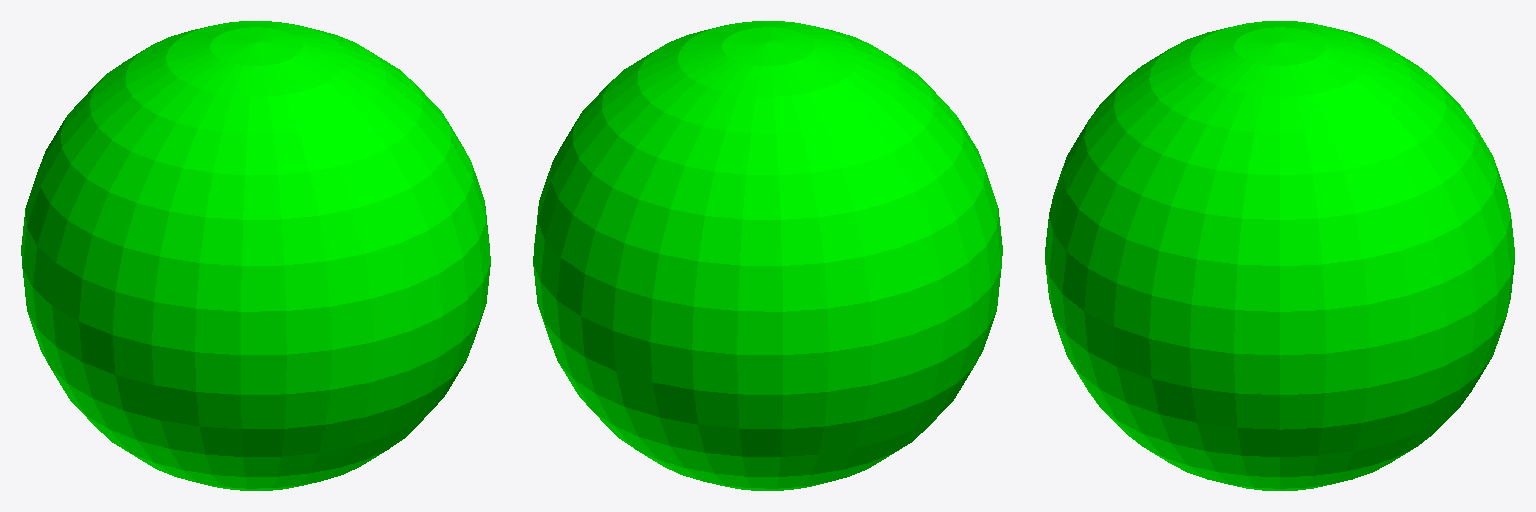
The model's file is giantSphere.obj.
The picture shows the model from 3 angles: view 1: azimuth 30°, elevation 25°; view 2: azimuth 150°, elevation 25°; view 3: azimuth 270°, elevation 25°; orthographic projection.
Visible parts, largest first — view 1: Sphere.001; view 2: Sphere.001; view 3: Sphere.001.
Boxes of the visible parts, x1=… form: Sphere.001: x1=21, y1=21, x2=490, y2=490; Sphere.001: x1=533, y1=21, x2=1002, y2=490; Sphere.001: x1=1045, y1=21, x2=1514, y2=490.
Size of the model in its own units: 467 by 467 by 467.